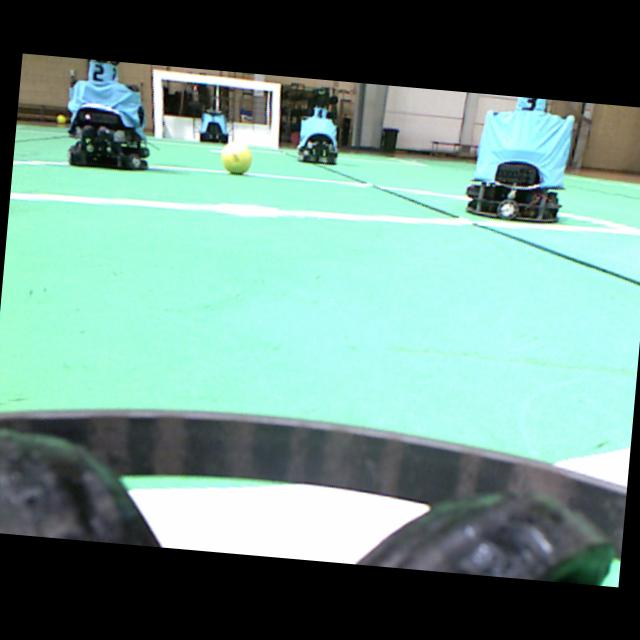ball: (220, 142, 251, 174), (55, 113, 65, 123)
goal: (152, 69, 163, 137), (268, 83, 279, 148)
